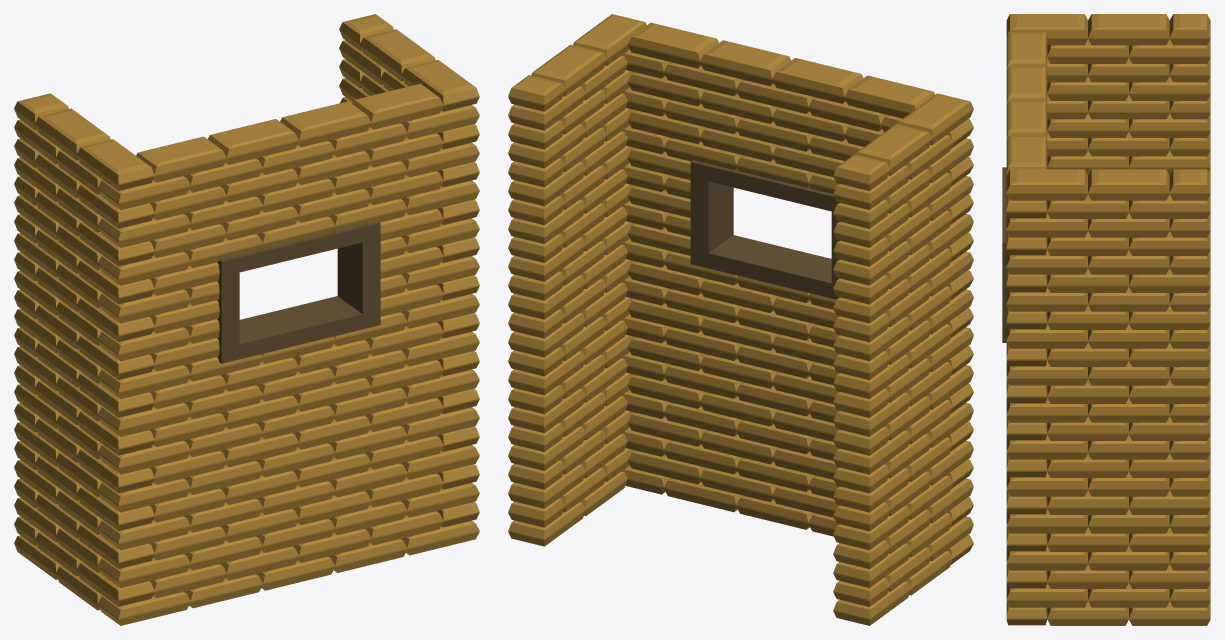
Rendered from Sand Bags Opening.fbx.
3 renders of one model, left to right at view 1: azimuth 30°, elevation 25°; view 2: azimuth 150°, elevation 25°; view 3: azimuth 270°, elevation 25°, orthographic. The views are drawn at different scales.
Parts seen in each view (by area): view 1: Sand Bags Opening; view 2: Sand Bags Opening; view 3: Sand Bags Opening.
Boxes of the visible parts, <box> form: Sand Bags Opening: <box>14,14,479,625</box>; Sand Bags Opening: <box>508,14,973,625</box>; Sand Bags Opening: <box>1002,14,1210,625</box>.
Size of the model in its own units: 1000 by 1200 by 510.
